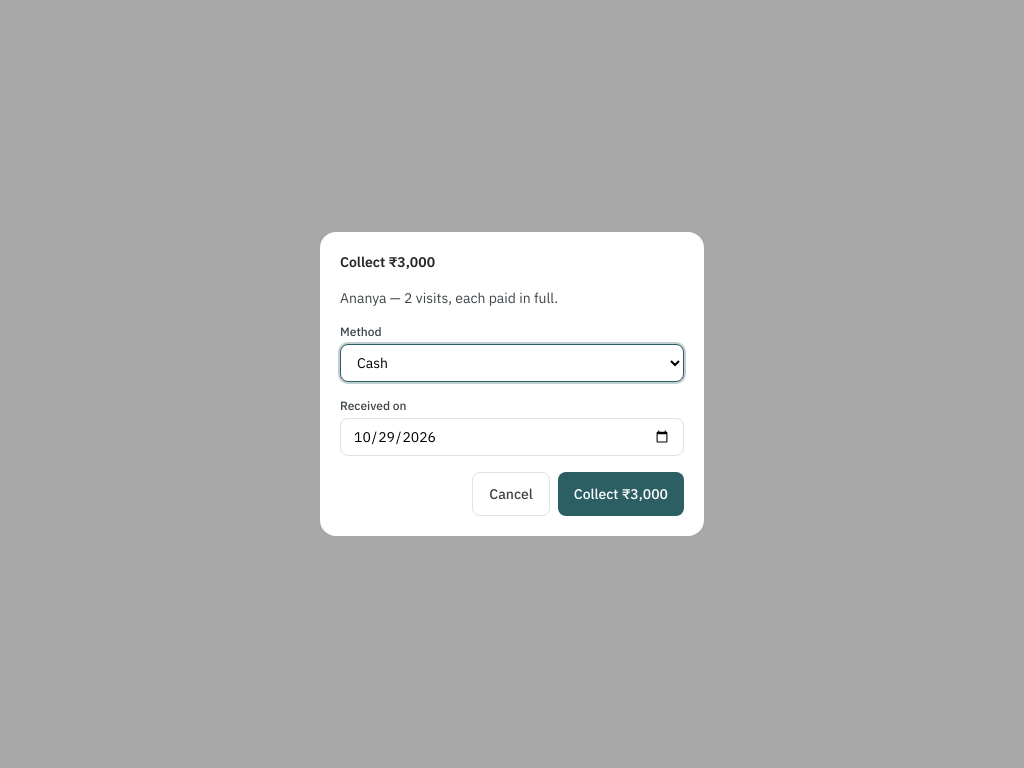
Test: BulkCollectDialog › keeps going no further after a failure and says how many were recorded
Click the button "Collect ₹3,000".
click(621, 494)  # box [558,472,684,516]
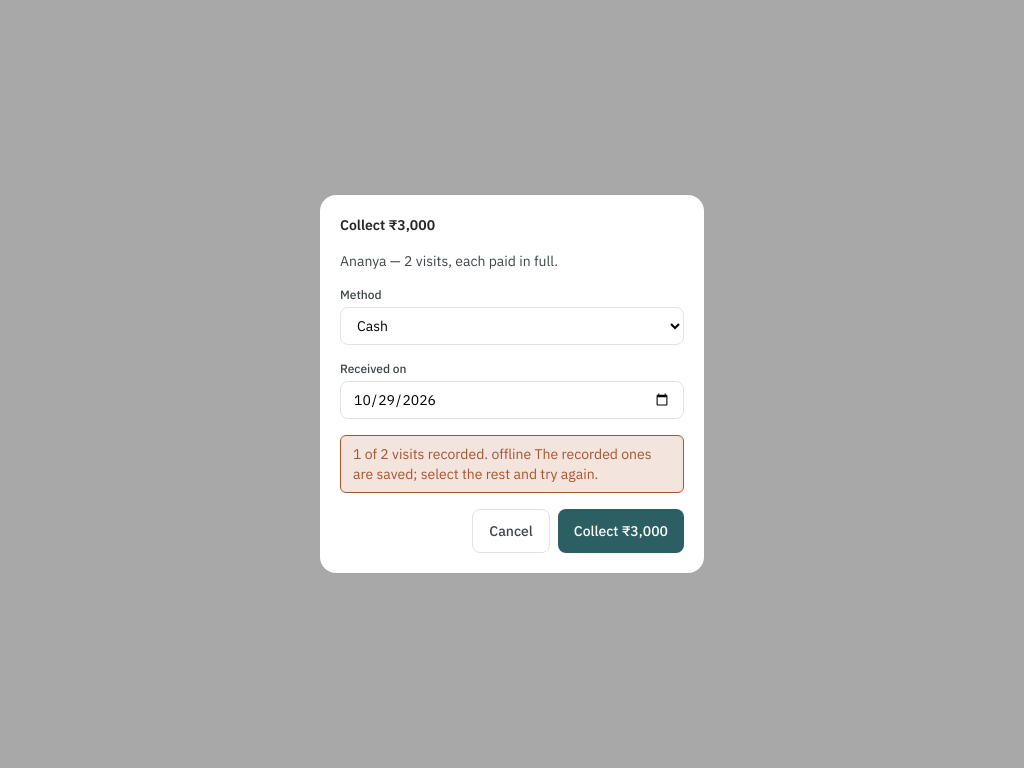
Expected: the text "1 of 2 visits recorded" is shown, [353,445,652,483]
